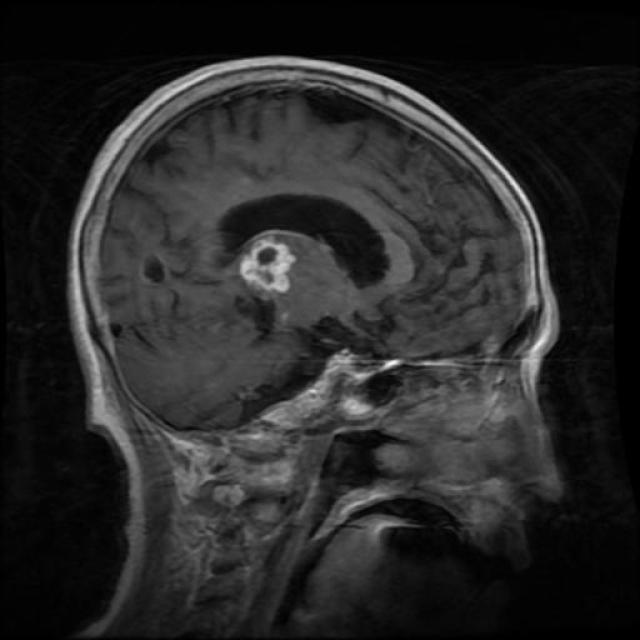glioma: (218, 179, 396, 319)
